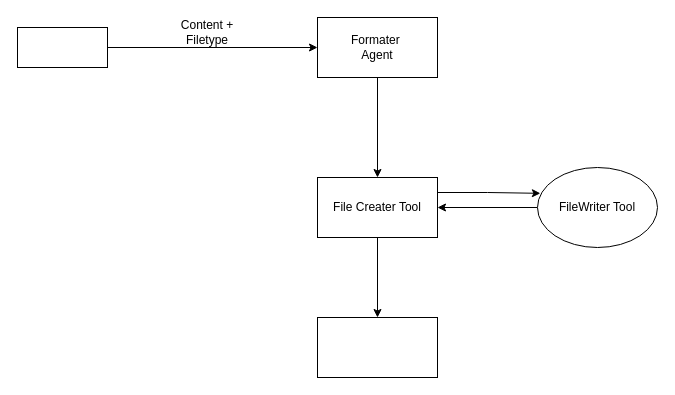
Image size: 675x395. Some labels were removed from this diagram. Here are the shapes that lost their labels. From the top down, the centre of each, then its label:
At (62,47): "User".
At (377,347): "Output".
